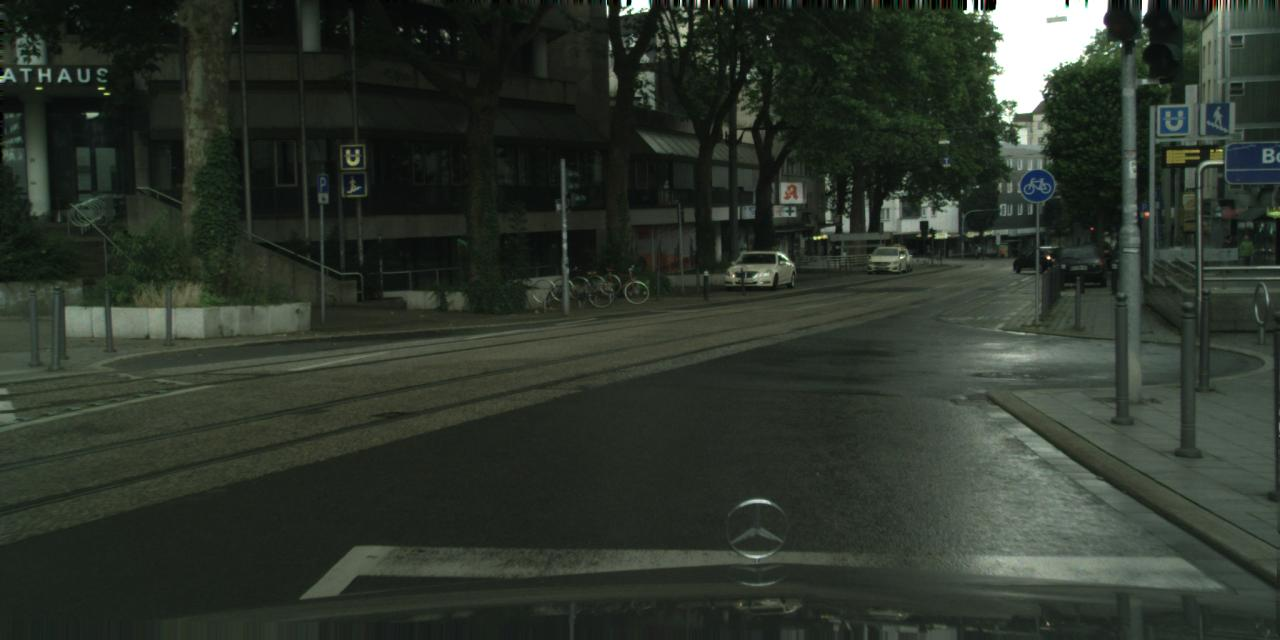ped: (1221, 235, 1236, 273), (1239, 235, 1253, 272), (974, 244, 980, 260), (1000, 246, 1005, 260)
